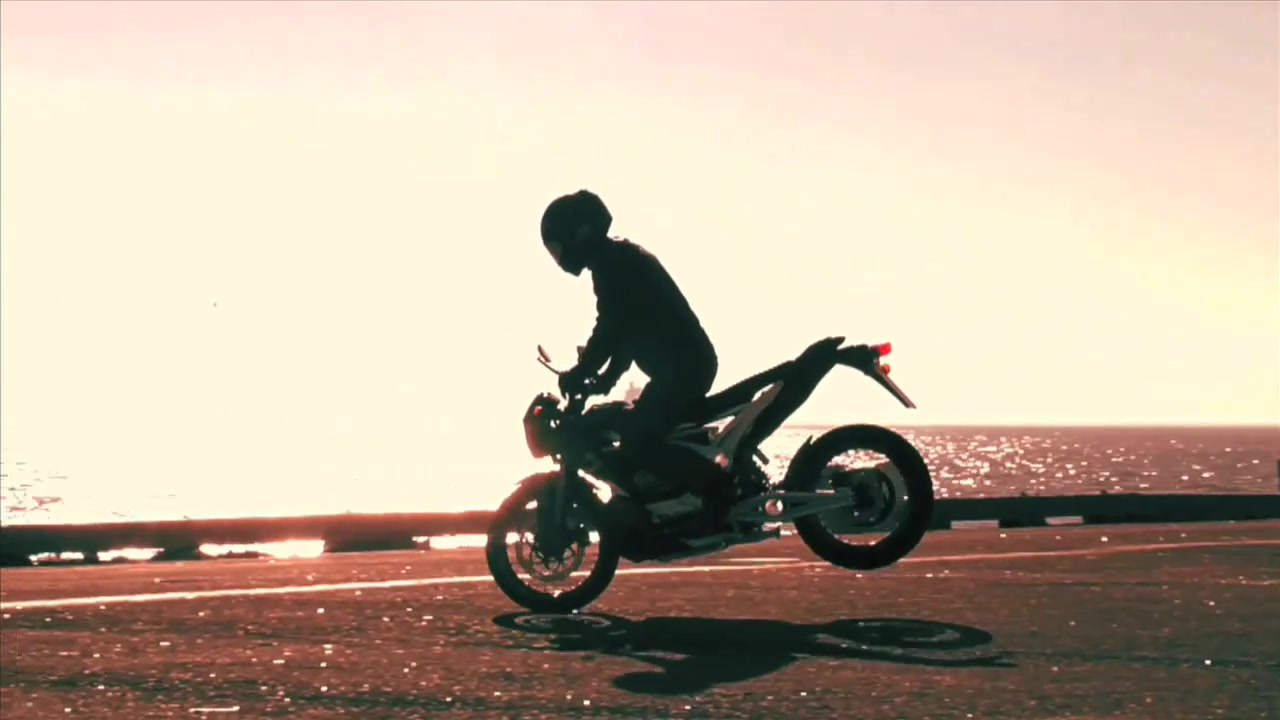motorbike: (484, 334, 936, 620)
